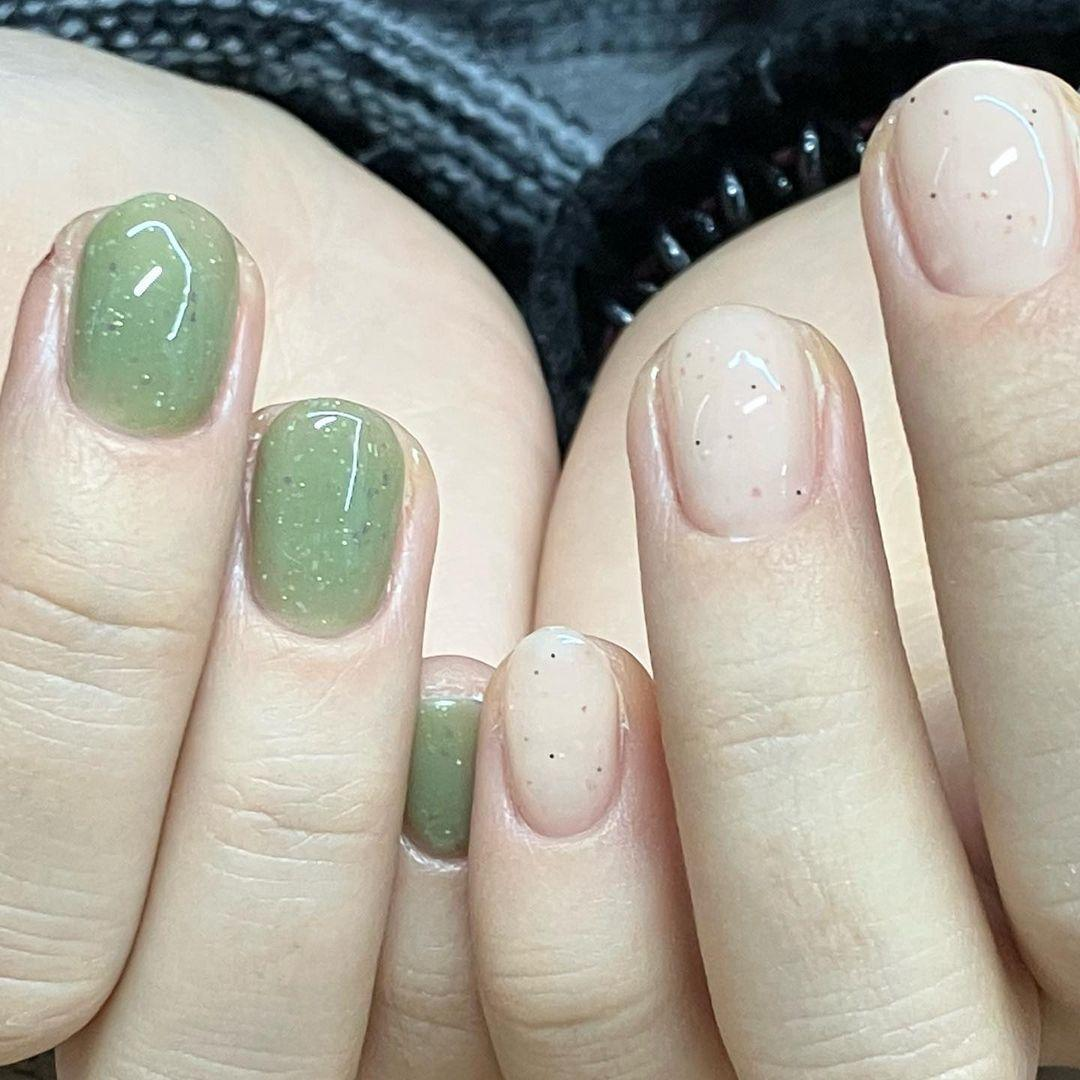nail: (624, 300, 1041, 1077), (887, 57, 1077, 298), (60, 190, 243, 437), (244, 395, 406, 639), (497, 625, 625, 838), (400, 653, 496, 863)
